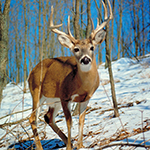deer: (43, 5, 121, 68)
